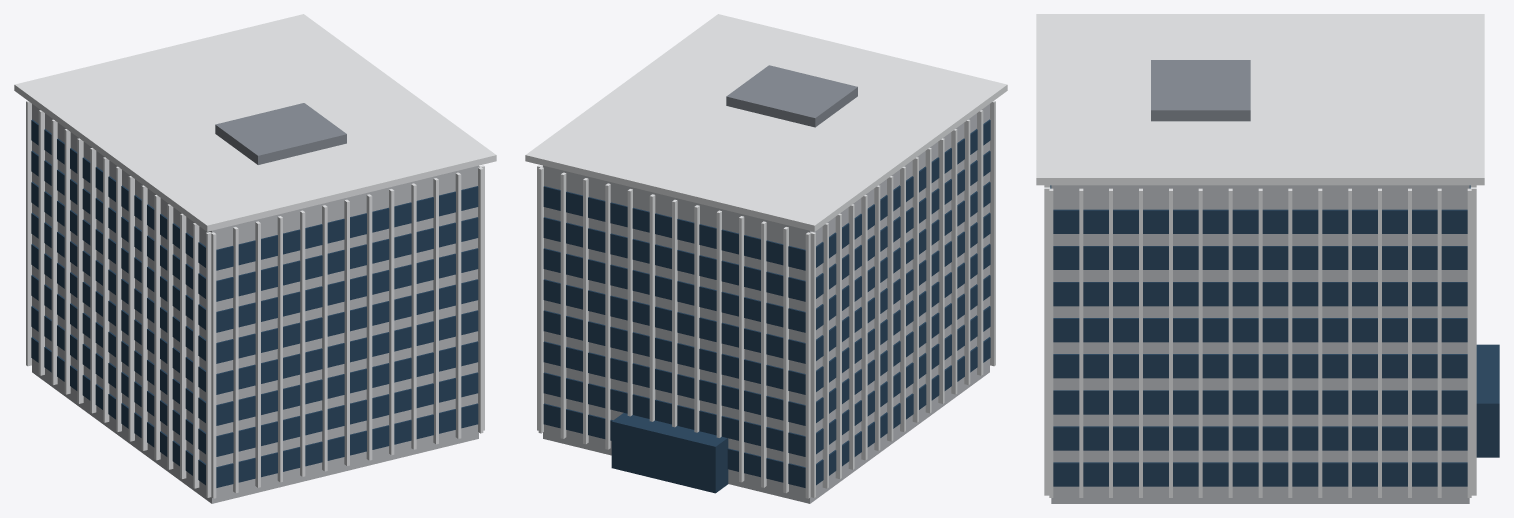
Rendered from shanghai-ala-torre.glb.
The picture shows the model from 3 angles, left to right: view 1: azimuth 30°, elevation 25°; view 2: azimuth 150°, elevation 25°; view 3: azimuth 270°, elevation 25°; orthographic projection. The views are drawn at different scales.
Visible parts, largest first — view 1: shanghai-ala-torre; view 2: shanghai-ala-torre; view 3: shanghai-ala-torre.
Boxes of the visible parts, x1=… form: shanghai-ala-torre: x1=14, y1=14, x2=496, y2=503; shanghai-ala-torre: x1=525, y1=14, x2=1007, y2=503; shanghai-ala-torre: x1=1036, y1=14, x2=1499, y2=503.
Size of the model in its own units: 39 by 38 by 46.5.
